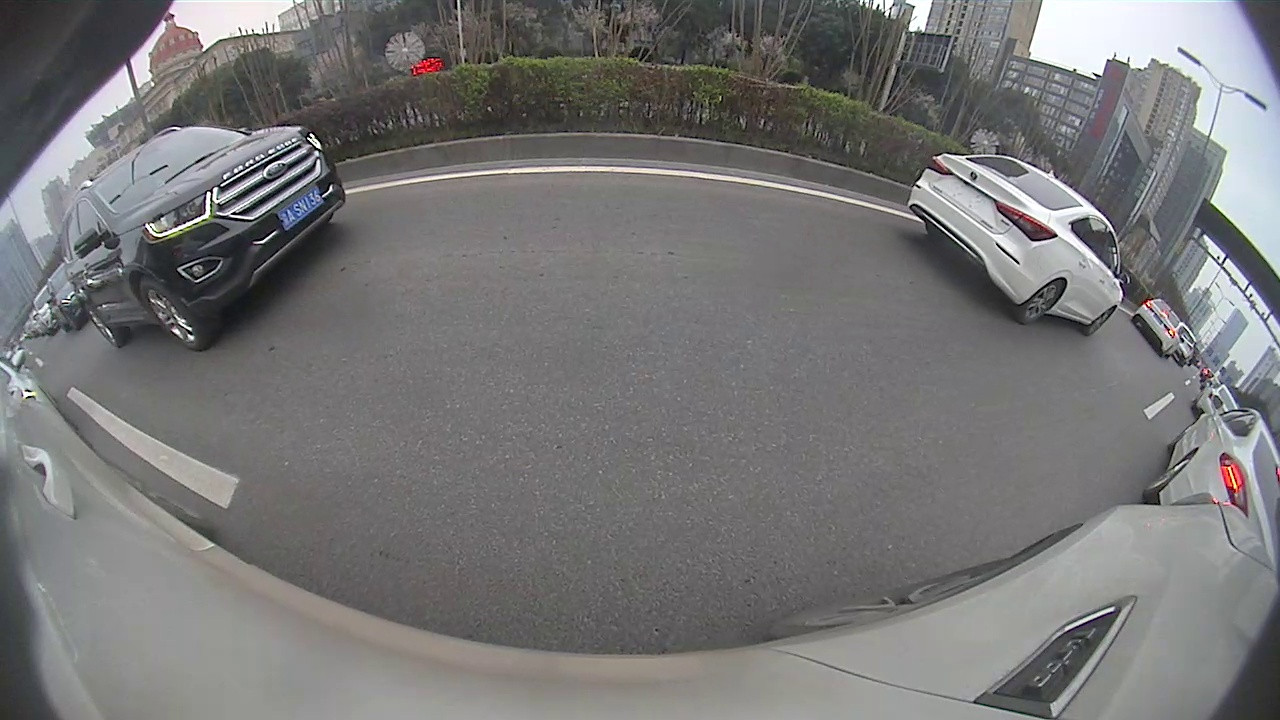car: (272, 161, 434, 260), (727, 143, 852, 216), (480, 167, 517, 192), (592, 152, 619, 179)
front: (417, 195, 432, 222), (729, 178, 742, 196)
rear: (344, 214, 369, 247), (771, 182, 787, 206)
